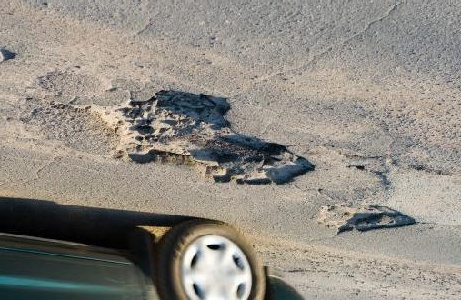pothole: (90, 89, 318, 191), (314, 204, 419, 237)
